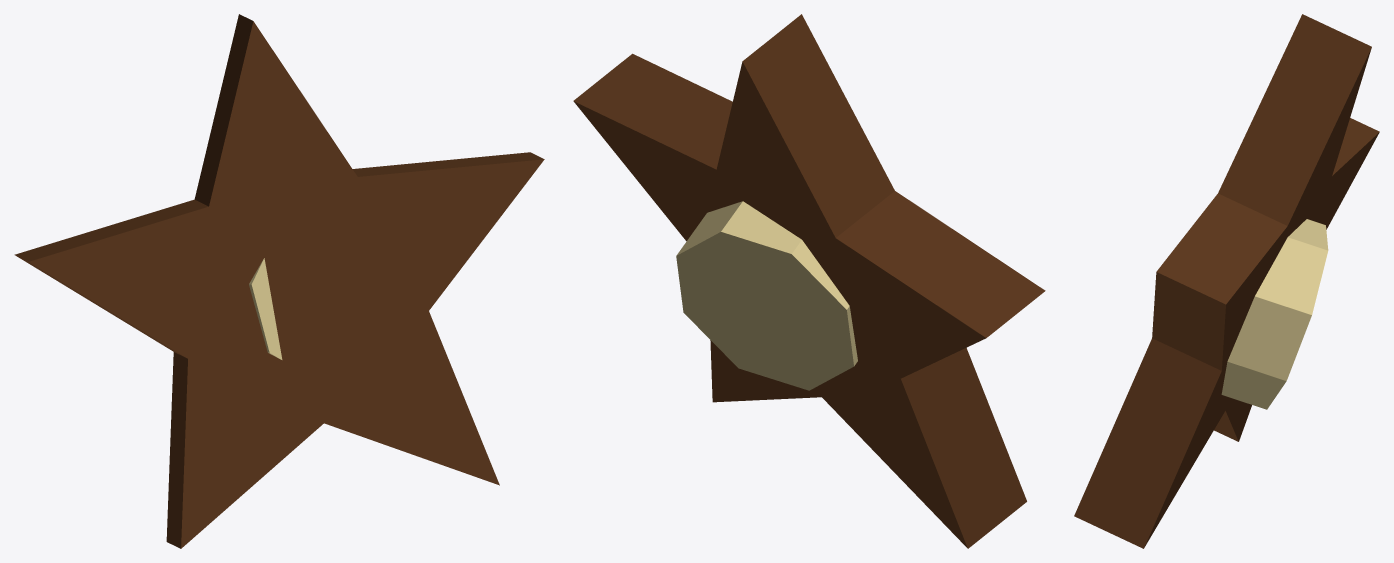
File: party_trait_badge_chocolate.glb
3 renders of one model, left to right at view 1: azimuth 30°, elevation 25°; view 2: azimuth 150°, elevation 25°; view 3: azimuth 270°, elevation 25°, orthographic. The views are drawn at different scales.
Parts seen in each view (by area): view 1: badge_trait_badge_chocolate, badge_trait_foil; view 2: badge_trait_badge_chocolate, badge_trait_foil; view 3: badge_trait_badge_chocolate, badge_trait_foil.
Part boxes in pixels (x1,y1,x2,y2): badge_trait_badge_chocolate: [14, 14, 544, 548]; badge_trait_foil: [249, 258, 282, 359]; badge_trait_badge_chocolate: [573, 14, 1045, 548]; badge_trait_foil: [676, 201, 857, 390]; badge_trait_badge_chocolate: [1074, 14, 1379, 548]; badge_trait_foil: [1221, 219, 1328, 409].
Size of the model in its own units: 0.1422 by 0.1385 by 0.0787.
